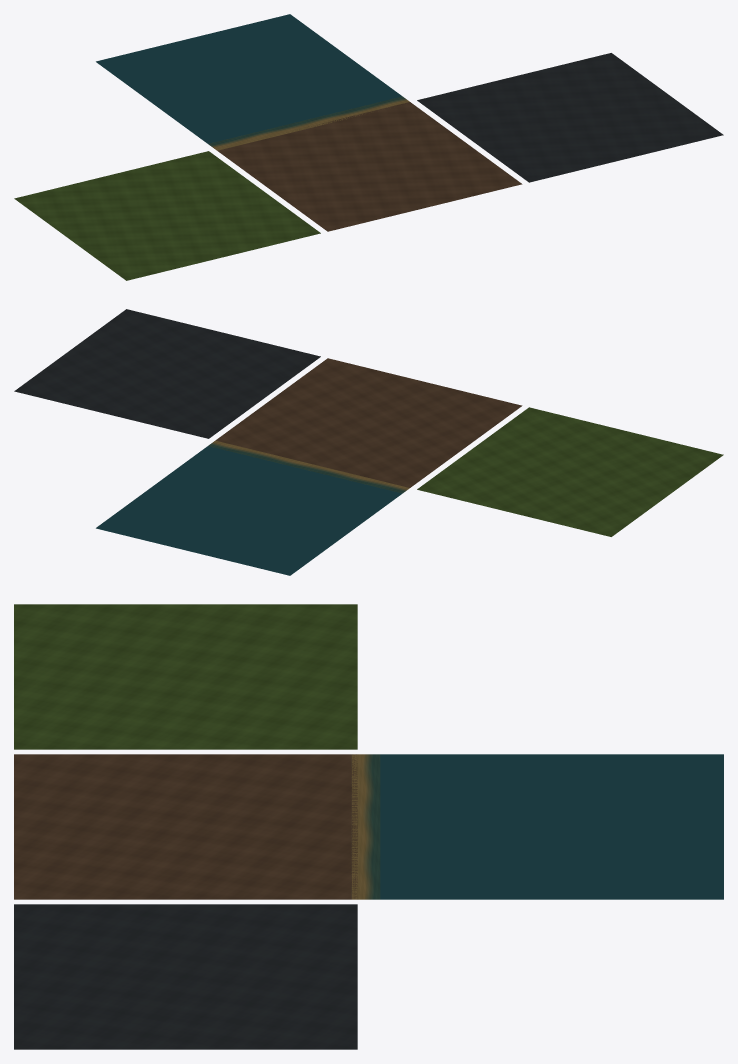
The picture shows the model from 3 angles, top to bottom: view 1: azimuth 30°, elevation 25°; view 2: azimuth 150°, elevation 25°; view 3: azimuth 270°, elevation 25°; orthographic projection. The views are drawn at different scales.
Visible parts, largest first — view 1: static_terrain_grass, static_terrain_asphalt, static_water_plane, static_terrain_soil, static_terrain_shoreline_transition; view 2: static_terrain_asphalt, static_terrain_soil, static_terrain_grass, static_water_plane, static_terrain_shoreline_transition; view 3: static_terrain_asphalt, static_terrain_grass, static_water_plane, static_terrain_soil, static_terrain_shoreline_transition.
Boxes of the visible parts, box(x1,y1,x2,y2) form: static_terrain_grass: box(14, 151, 320, 280); static_terrain_asphalt: box(417, 53, 723, 182); static_water_plane: box(96, 14, 402, 143); static_terrain_soil: box(217, 102, 522, 231); static_terrain_shoreline_transition: box(208, 96, 409, 150); static_terrain_asphalt: box(14, 309, 320, 438); static_terrain_soil: box(215, 358, 522, 487); static_terrain_grass: box(417, 407, 723, 536); static_water_plane: box(96, 446, 402, 575); static_terrain_shoreline_transition: box(208, 440, 409, 493); static_terrain_asphalt: box(14, 904, 357, 1049); static_terrain_grass: box(14, 604, 357, 749); static_water_plane: box(380, 754, 723, 899); static_terrain_soil: box(14, 754, 357, 899); static_terrain_shoreline_transition: box(351, 754, 380, 899).
Size of the model in its own units: 9.2 by 0 by 6.2.
Materials: 5 (5 with a texture image).
